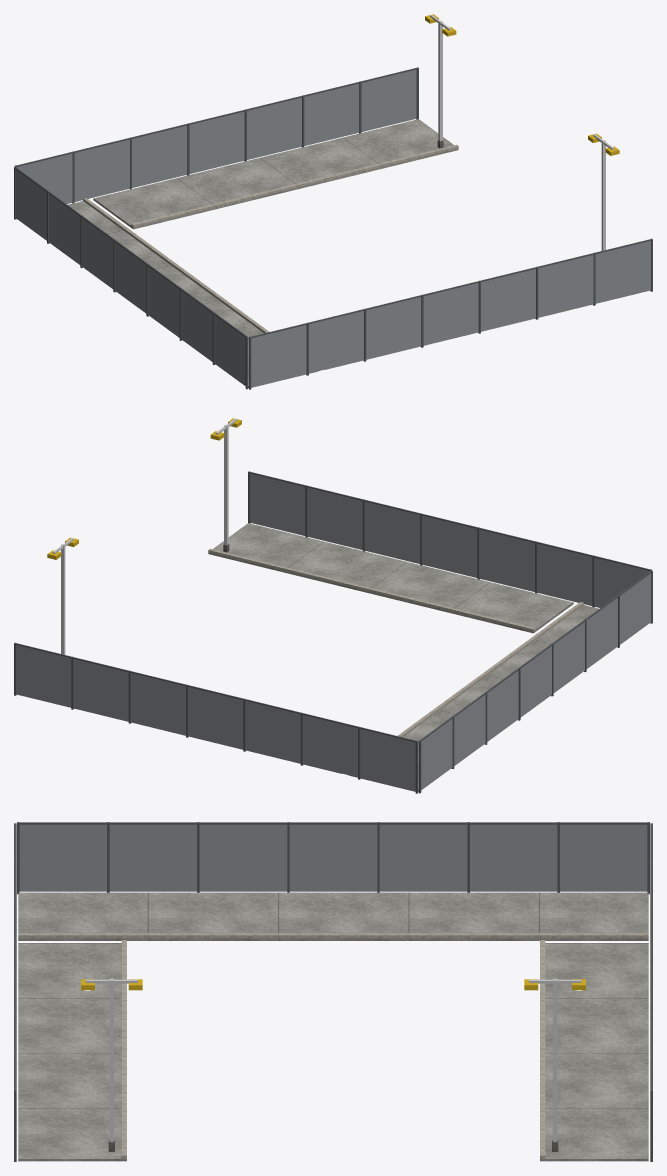
The model's file is rampa_slepa.glb.
3 views of the same model, one above another, from view 1: azimuth 30°, elevation 25°; view 2: azimuth 150°, elevation 25°; view 3: azimuth 270°, elevation 25° (orthographic). The views are drawn at different scales.
Visible parts, largest first — view 1: dum; view 2: dum; view 3: dum.
Part boxes in pixels (bbox=[...]): dum: bbox=[14, 14, 652, 389]; dum: bbox=[14, 418, 652, 793]; dum: bbox=[14, 822, 652, 1161].
Bounding box in the file's own units: 14.63 × 4.4 × 14.7.
Materials: 3 (2 with a texture image).
